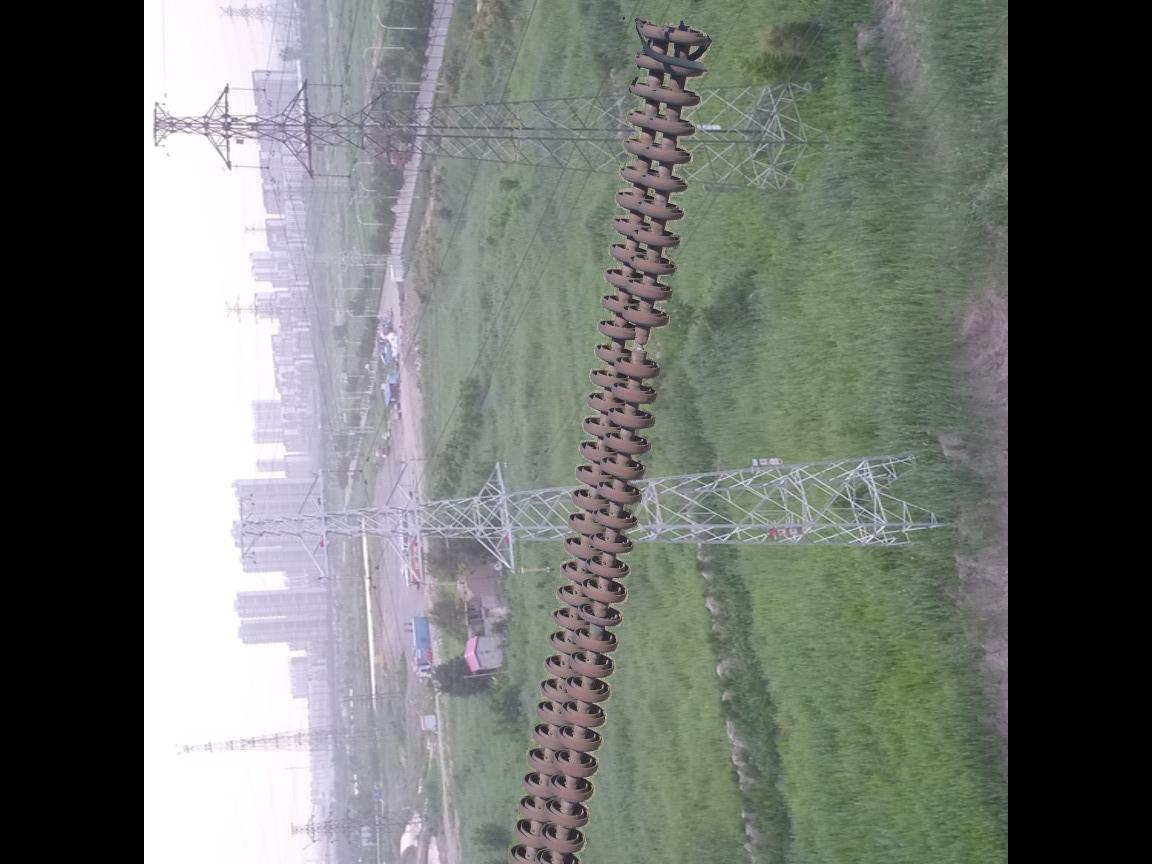insulator: (503, 16, 709, 864)
insulator_stringdrop: (611, 302, 672, 381)
